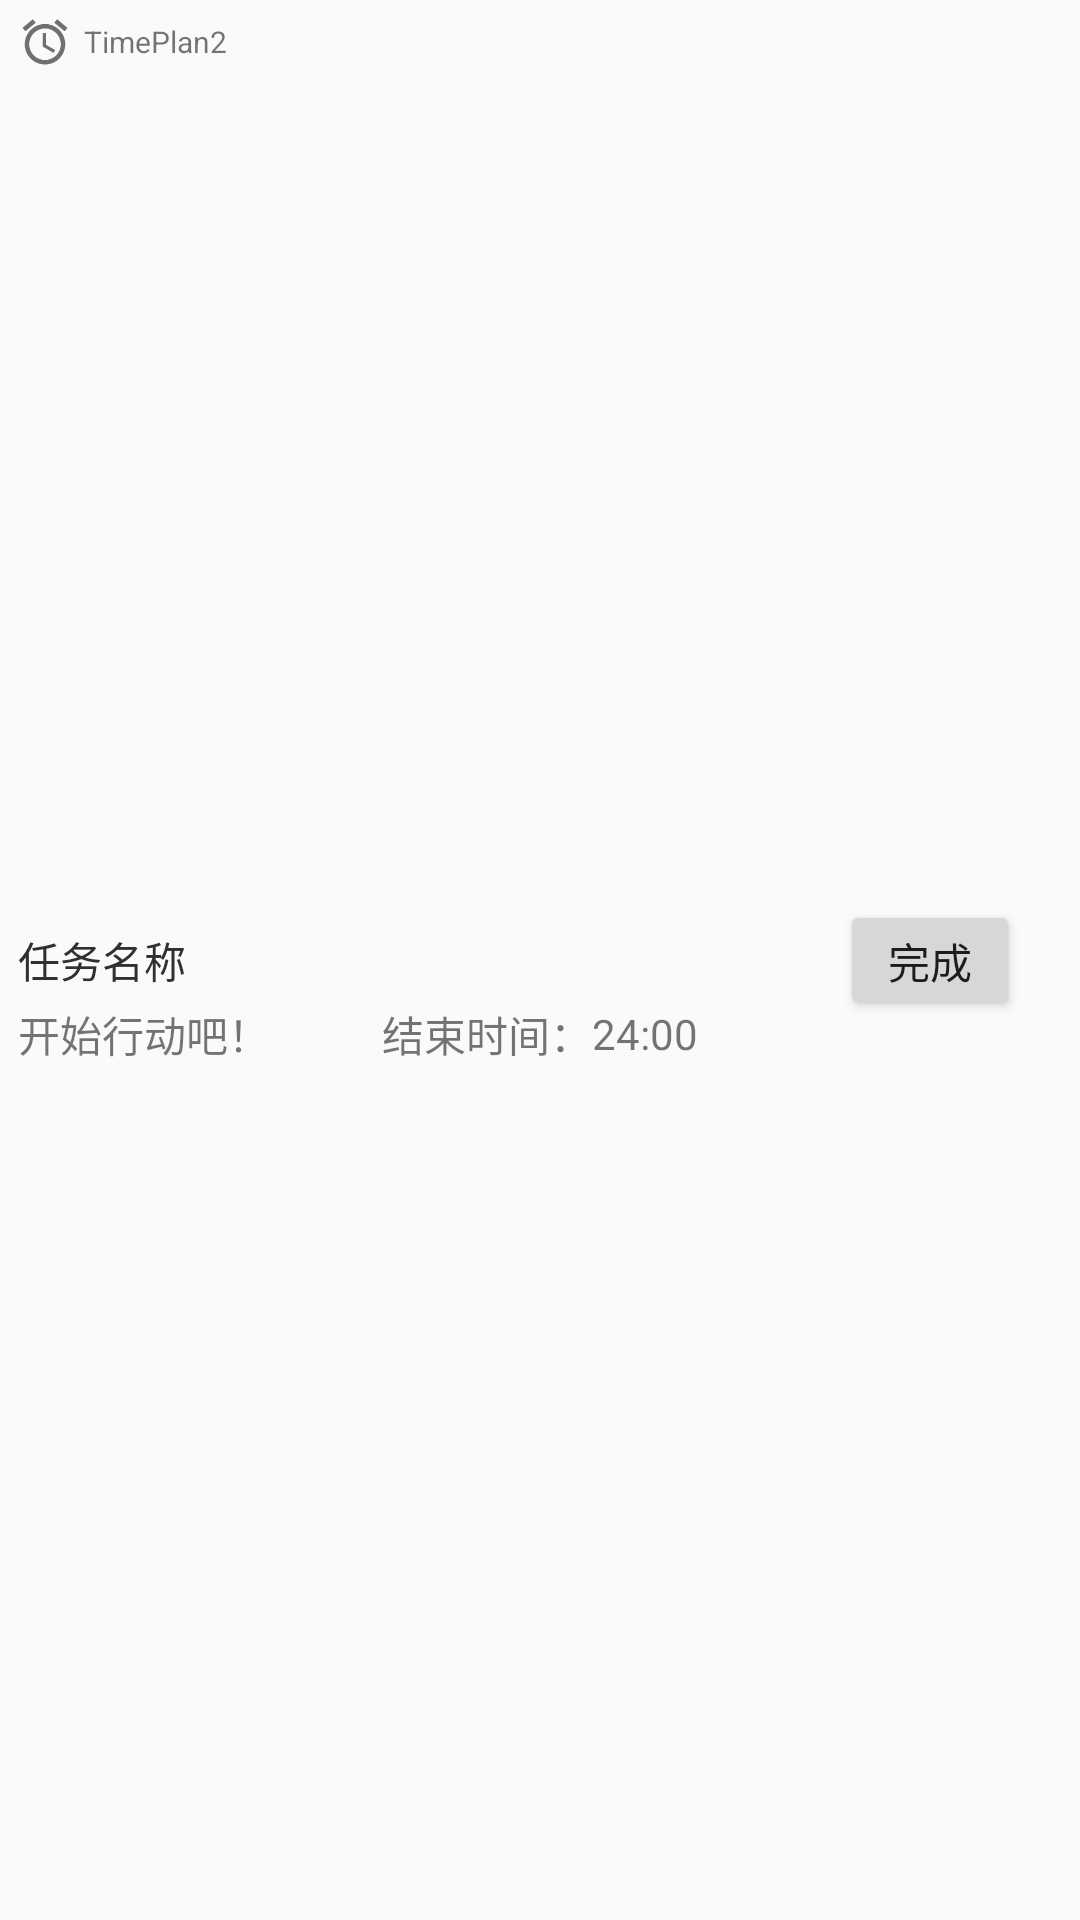

Screen size 1080×1920. Icon name, then its box in pixels as rect(x1, y1, x2, y2):
alarm: rect(23, 19, 67, 65)
